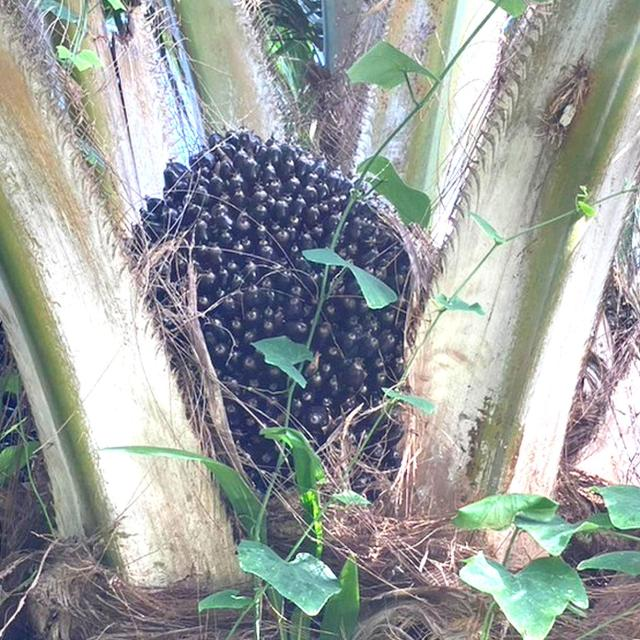unripe: (112, 114, 444, 543)
